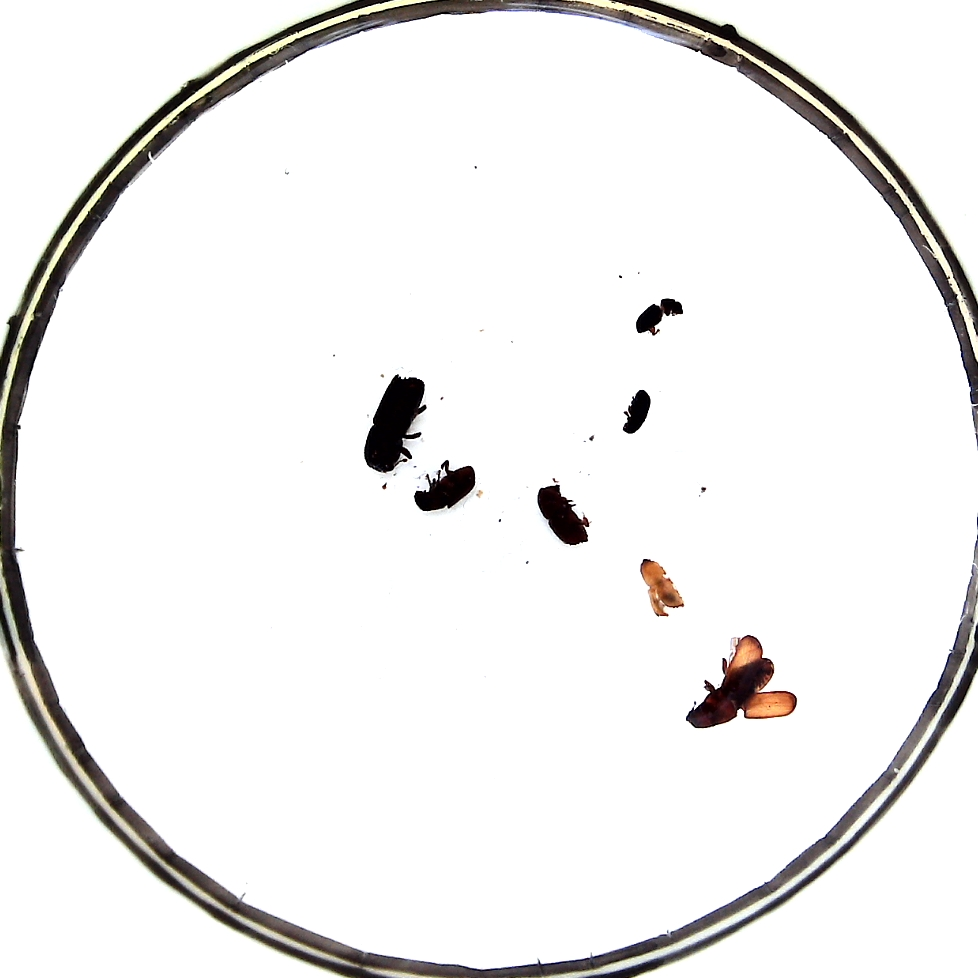Boerner: (365, 374, 425, 473)
Leconte: (686, 656, 774, 728)
acuminatus: (636, 298, 684, 335), (623, 389, 651, 433)
armandi: (414, 464, 475, 511)
coleoptera: (639, 559, 684, 617)
linnaeus: (537, 484, 588, 546)
